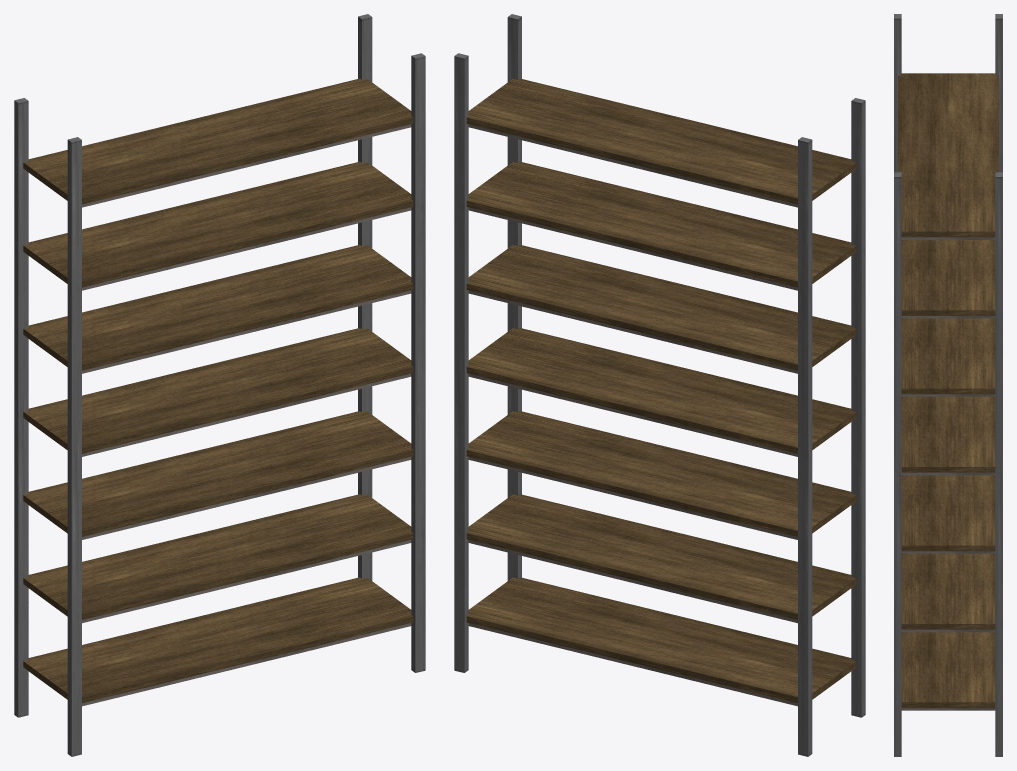
The model's file is etagere_large.fbx.
3 views of the same model, side by side, from view 1: azimuth 30°, elevation 25°; view 2: azimuth 150°, elevation 25°; view 3: azimuth 270°, elevation 25° (orthographic). The views are drawn at different scales.
Parts seen in each view (by area): view 1: plancheMed.001, poteauMed.001; view 2: plancheMed.001, poteauMed.001; view 3: plancheMed.001, poteauMed.001.
Boxes of the visible parts, x1,y1,x2,y2 form: plancheMed.001: (23, 78, 413, 706); poteauMed.001: (14, 14, 425, 756); plancheMed.001: (466, 78, 856, 706); poteauMed.001: (454, 14, 865, 756); plancheMed.001: (898, 73, 998, 710); poteauMed.001: (894, 14, 1002, 756).
Size of the model in its own units: 1136 by 1885 by 320.
